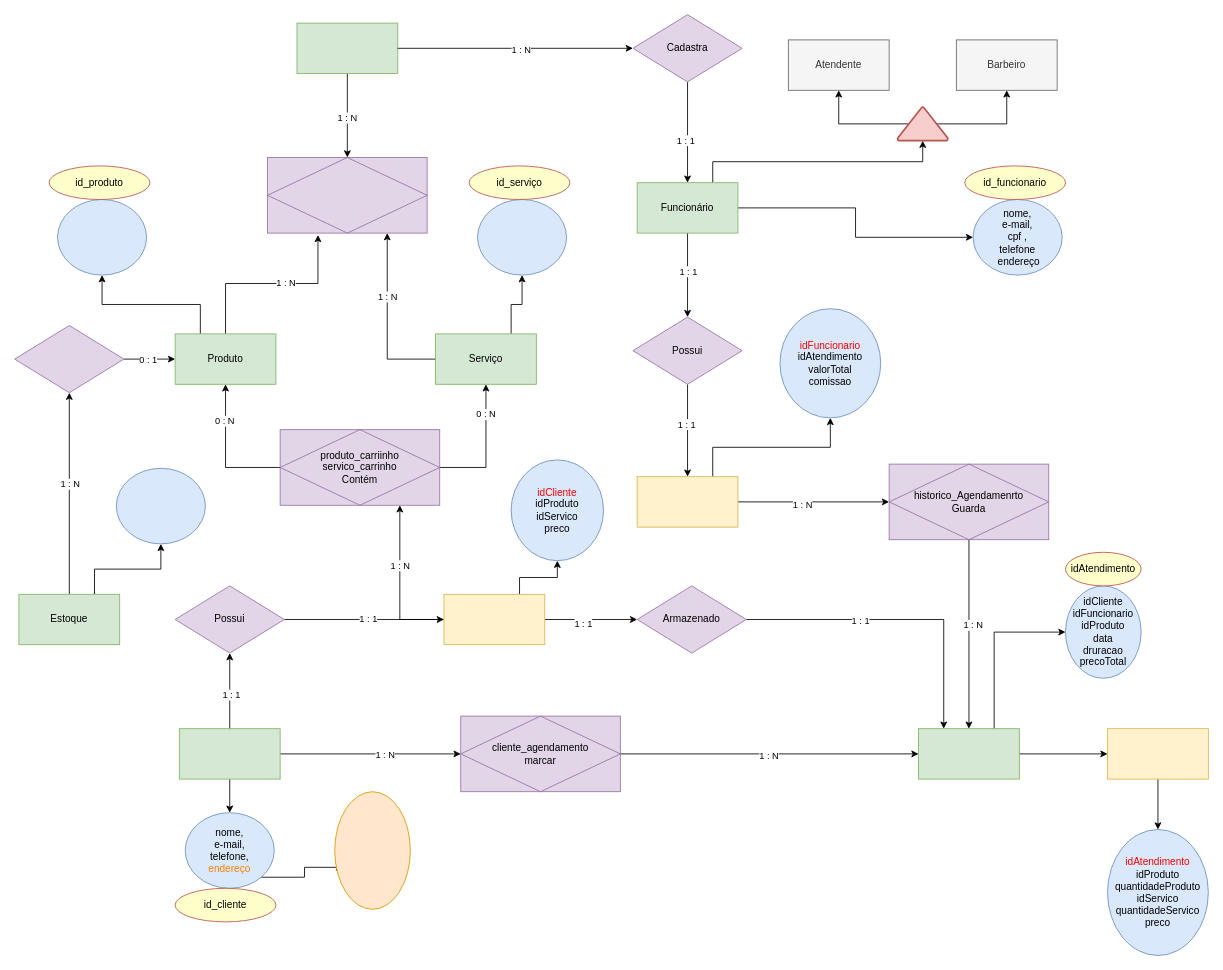
Some shapes in this 1223 by 970 pixel diagram are drawn without their labels. Each missing label, with the box of its shape:
Armazena: (14, 325, 124, 393)
Atendimento: (918, 728, 1019, 779)
Barbearia: (296, 22, 398, 74)
Carrinho de Compras: (443, 593, 545, 645)
Cliente: (178, 728, 280, 779)
Histórico Pessoal: (636, 476, 738, 527)
idProduto quantidade: (116, 467, 205, 544)
nome, descrição, preço, duração: (477, 199, 567, 275)
nome, descrição, preço, marca, tipo, comissão: (57, 199, 147, 275)
Número, Complemento, Bairro, Cidade, UF, CEP: (334, 791, 410, 909)
produto_barbearia servico_barbearia Cadastra: (267, 157, 427, 233)
Recibo: (1107, 728, 1208, 779)
